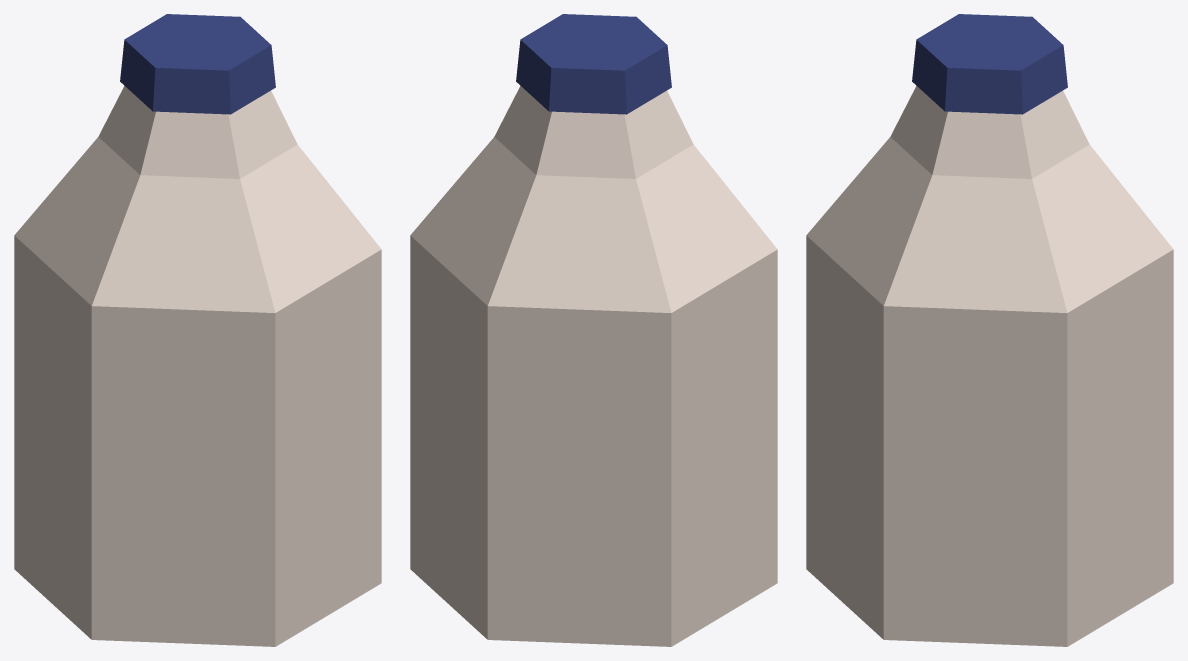
Rendered from Bottle_13.fbx.
3 renders of one model, left to right at view 1: azimuth 30°, elevation 25°; view 2: azimuth 150°, elevation 25°; view 3: azimuth 270°, elevation 25°, orthographic.
Parts seen in each view (by area): view 1: Bottle_13; view 2: Bottle_13; view 3: Bottle_13.
Boxes of the visible parts, left/top/right/bottom form: Bottle_13: left=14, top=14, right=381, bottom=646; Bottle_13: left=410, top=14, right=777, bottom=646; Bottle_13: left=806, top=14, right=1173, bottom=646.
Bounding box in the file's own units: 9.82 × 10.77 × 17.27.
